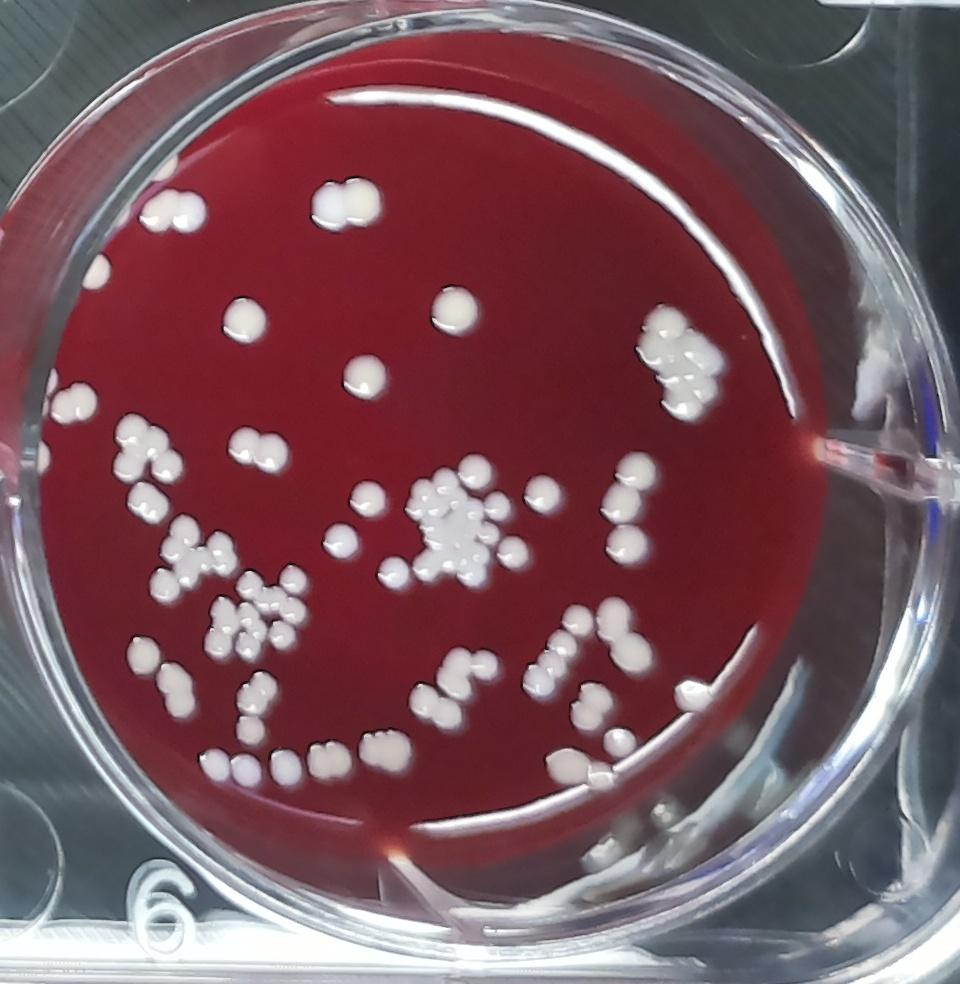staphylo-: (635, 294, 731, 427), (407, 469, 493, 594), (114, 407, 186, 486), (308, 175, 388, 236), (518, 628, 577, 701), (434, 646, 501, 703), (221, 425, 293, 476), (137, 189, 209, 239), (428, 278, 484, 342), (400, 680, 466, 733), (216, 292, 272, 348), (337, 352, 394, 407), (353, 723, 416, 772), (568, 679, 613, 735), (603, 521, 652, 571), (536, 746, 594, 788), (154, 659, 195, 718), (229, 667, 280, 714), (611, 446, 659, 494), (52, 381, 101, 428), (123, 483, 173, 528), (610, 627, 654, 677), (307, 738, 352, 783), (258, 588, 311, 626), (598, 483, 644, 525), (522, 472, 564, 517), (206, 526, 240, 581), (345, 478, 389, 520), (120, 634, 161, 676), (316, 521, 359, 561), (598, 593, 632, 642), (671, 680, 715, 717), (145, 563, 182, 606), (266, 744, 302, 787), (495, 534, 534, 573), (603, 722, 641, 762), (457, 452, 495, 492), (78, 252, 111, 296), (373, 552, 409, 591), (560, 604, 598, 640), (197, 744, 231, 784), (231, 751, 262, 790), (267, 618, 302, 652), (482, 489, 515, 522), (274, 565, 308, 597), (412, 550, 442, 584), (234, 567, 264, 600), (476, 518, 501, 550)
